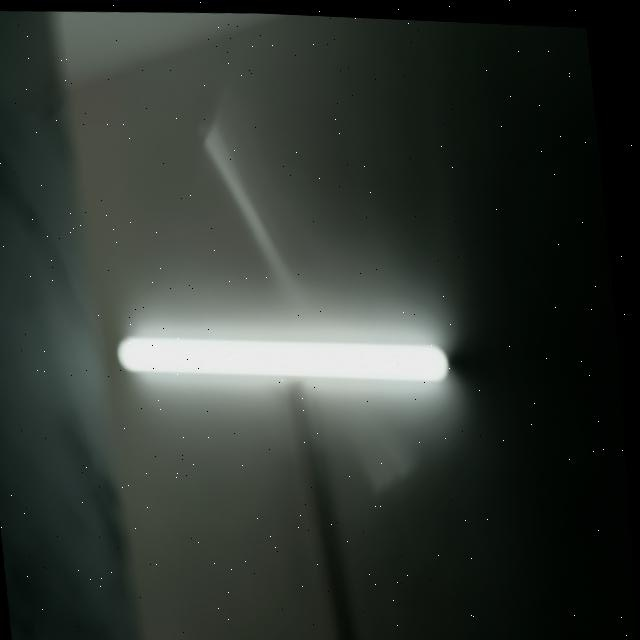fluorescent tube: (109, 294, 476, 420)
